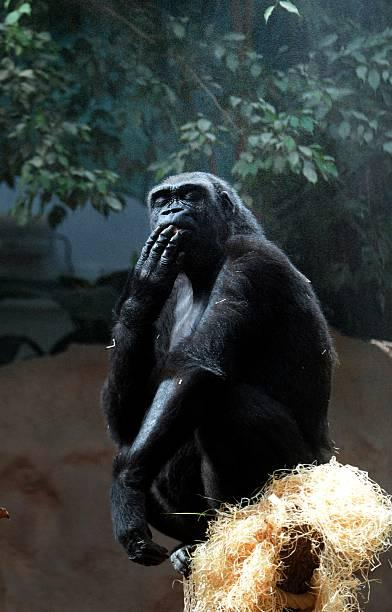gorille_Autres: (93, 129, 350, 506)
